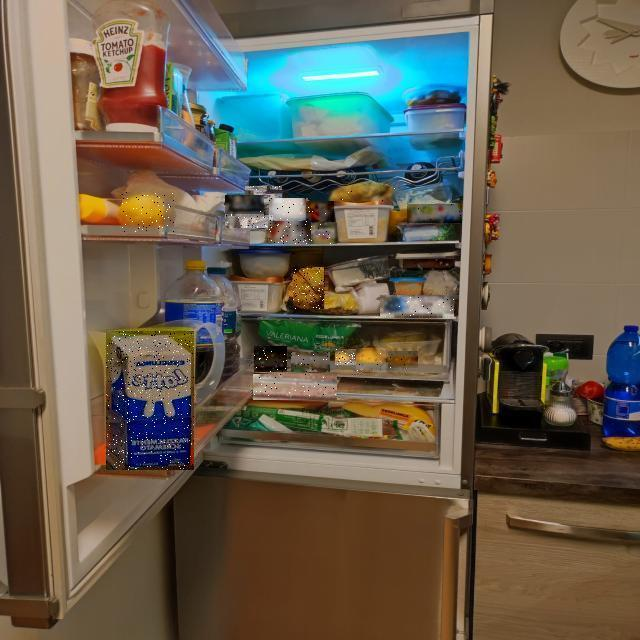Cheese: (380, 296, 454, 318), (294, 267, 328, 309), (326, 186, 398, 201), (407, 204, 462, 223), (311, 223, 337, 244)
Ham: (253, 374, 337, 400), (403, 259, 454, 270)
Lemon: (123, 193, 175, 233), (356, 349, 386, 373), (388, 352, 418, 370), (335, 349, 356, 365)
Milk: (106, 331, 194, 470)
Olives: (254, 346, 287, 372), (291, 352, 330, 372)
Yoghurt: (268, 221, 311, 244), (269, 199, 308, 221), (225, 196, 264, 216), (245, 186, 282, 203), (225, 215, 273, 228), (306, 201, 334, 222)
